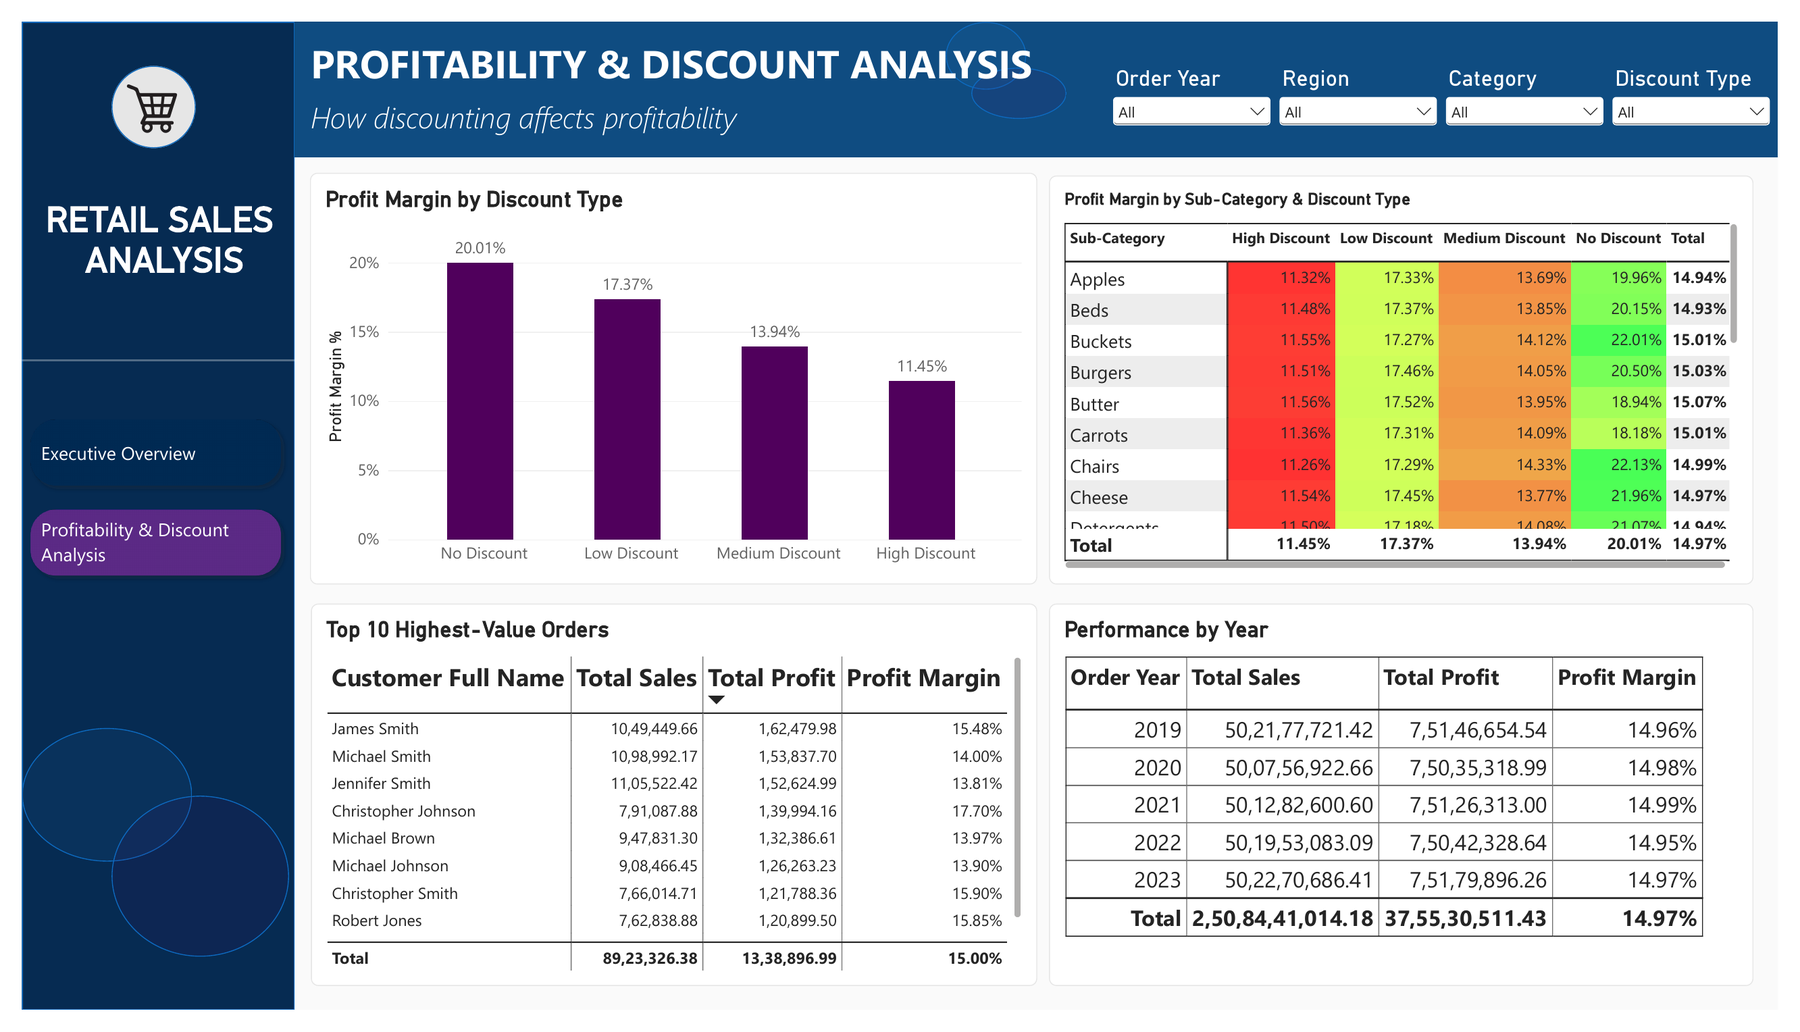

The page's visual inventory and layout, read from the dashboard file:
{"tool":"powerbi","page":{"name":"Profitability & Discount Analysis","canvas":[1920,1080],"ordinal":1},"visuals":[{"type":"shape","title":"Sidebar","box":[0,0,298,1080],"z":0},{"type":"shape","title":"RETAIL SALES & PROFITABILITY ANALYSIS","box":[298,0,1622,148],"z":1000},{"type":"shape","box":[1010,0,88,74],"z":2000},{"type":"shape","box":[1038,50,104,56],"z":3000},{"type":"textbox","box":[316,16,946,66],"z":4000},{"type":"textbox","box":[316,82,826,66],"z":5000},{"type":"slicer","title":"Year","fields":{"Values":["store_sales_data_updated.Category of Goods"]},"box":[1552,48,182,100],"z":6000},{"type":"slicer","title":"Year","fields":{"Values":["store_sales_data_updated.Discount Type"]},"box":[1734,48,182,100],"z":7000},{"type":"slicer","title":"Year","fields":{"Values":["store_sales_data_updated.Region"]},"box":[1370,48,182,100],"z":8000},{"type":"slicer","title":"Year","fields":{"Values":["store_sales_data_updated.Order Year"]},"box":[1188,48,182,100],"z":9000},{"type":"clusteredColumnChart","title":"Profit Margin by Discount Type","fields":{"Category":["store_sales_data_updated.Discount Type"],"Y":["store_sales_data_updated.Profit Margin"]},"box":[315,165,795,450],"z":10000},{"type":"pivotTable","title":"Profit Margin by Sub-Category & Discount Type","fields":{"Rows":["store_sales_data_updated.Sub-Category"],"Columns":["store_sales_data_updated.Discount Type"],"Values":["store_sales_data_updated.Profit Margin"]},"box":[1122.5,167.5,770,447.5],"z":11000},{"type":"tableEx","title":"Top 10 Highest-Value Orders","fields":{"Values":["store_sales_data_updated.Customer Full Name","store_sales_data_updated.Total Sales","store_sales_data_updated.Total Profit","store_sales_data_updated.Profit Margin"]},"box":[316,636,794,418],"z":12000},{"type":"tableEx","title":"Performance by Year","fields":{"Values":["store_sales_data_updated.Order Year","store_sales_data_updated.Total Sales","store_sales_data_updated.Total Profit","store_sales_data_updated.Profit Margin"]},"box":[1122.5,636.2,770,417.5],"z":13000},{"type":"shape","box":[98,48,92,90],"z":14000},{"type":"image","box":[98,42,88,106],"z":15000},{"type":"textbox","title":"Retail Sales Analysis","box":[14,194,284,124],"z":16000},{"type":"shape","box":[0,220,300,300],"z":17000},{"type":"pageNavigator","box":[0,426,292,188],"z":18000},{"type":"shape","box":[0,772,186,146],"z":19000},{"type":"shape","box":[98,846,194,176],"z":20000}]}

Visuals, with their boxes in screenshot pixels (x1, y1, x2, y2), scaled from the page's 1920x1080 canvas onto the 1800x1032 screenshot:
"Sidebar" shape: select_region(0, 0, 279, 1031)
"RETAIL SALES & PROFITABILITY ANALYSIS" shape: select_region(279, 0, 1799, 141)
shape: select_region(947, 0, 1029, 71)
shape: select_region(973, 48, 1071, 101)
textbox: select_region(296, 15, 1183, 78)
textbox: select_region(296, 78, 1071, 141)
"Year" slicer: select_region(1455, 46, 1626, 141)
"Year" slicer: select_region(1626, 46, 1796, 141)
"Year" slicer: select_region(1284, 46, 1455, 141)
"Year" slicer: select_region(1114, 46, 1284, 141)
"Profit Margin by Discount Type" clusteredColumnChart: select_region(295, 158, 1041, 588)
"Profit Margin by Sub-Category & Discount Type" pivotTable: select_region(1052, 160, 1774, 588)
"Top 10 Highest-Value Orders" tableEx: select_region(296, 608, 1041, 1007)
"Performance by Year" tableEx: select_region(1052, 608, 1774, 1007)
shape: select_region(92, 46, 178, 132)
image: select_region(92, 40, 174, 141)
"Retail Sales Analysis" textbox: select_region(13, 185, 279, 304)
shape: select_region(0, 210, 281, 497)
pageNavigator: select_region(0, 407, 274, 587)
shape: select_region(0, 738, 174, 877)
shape: select_region(92, 808, 274, 977)
